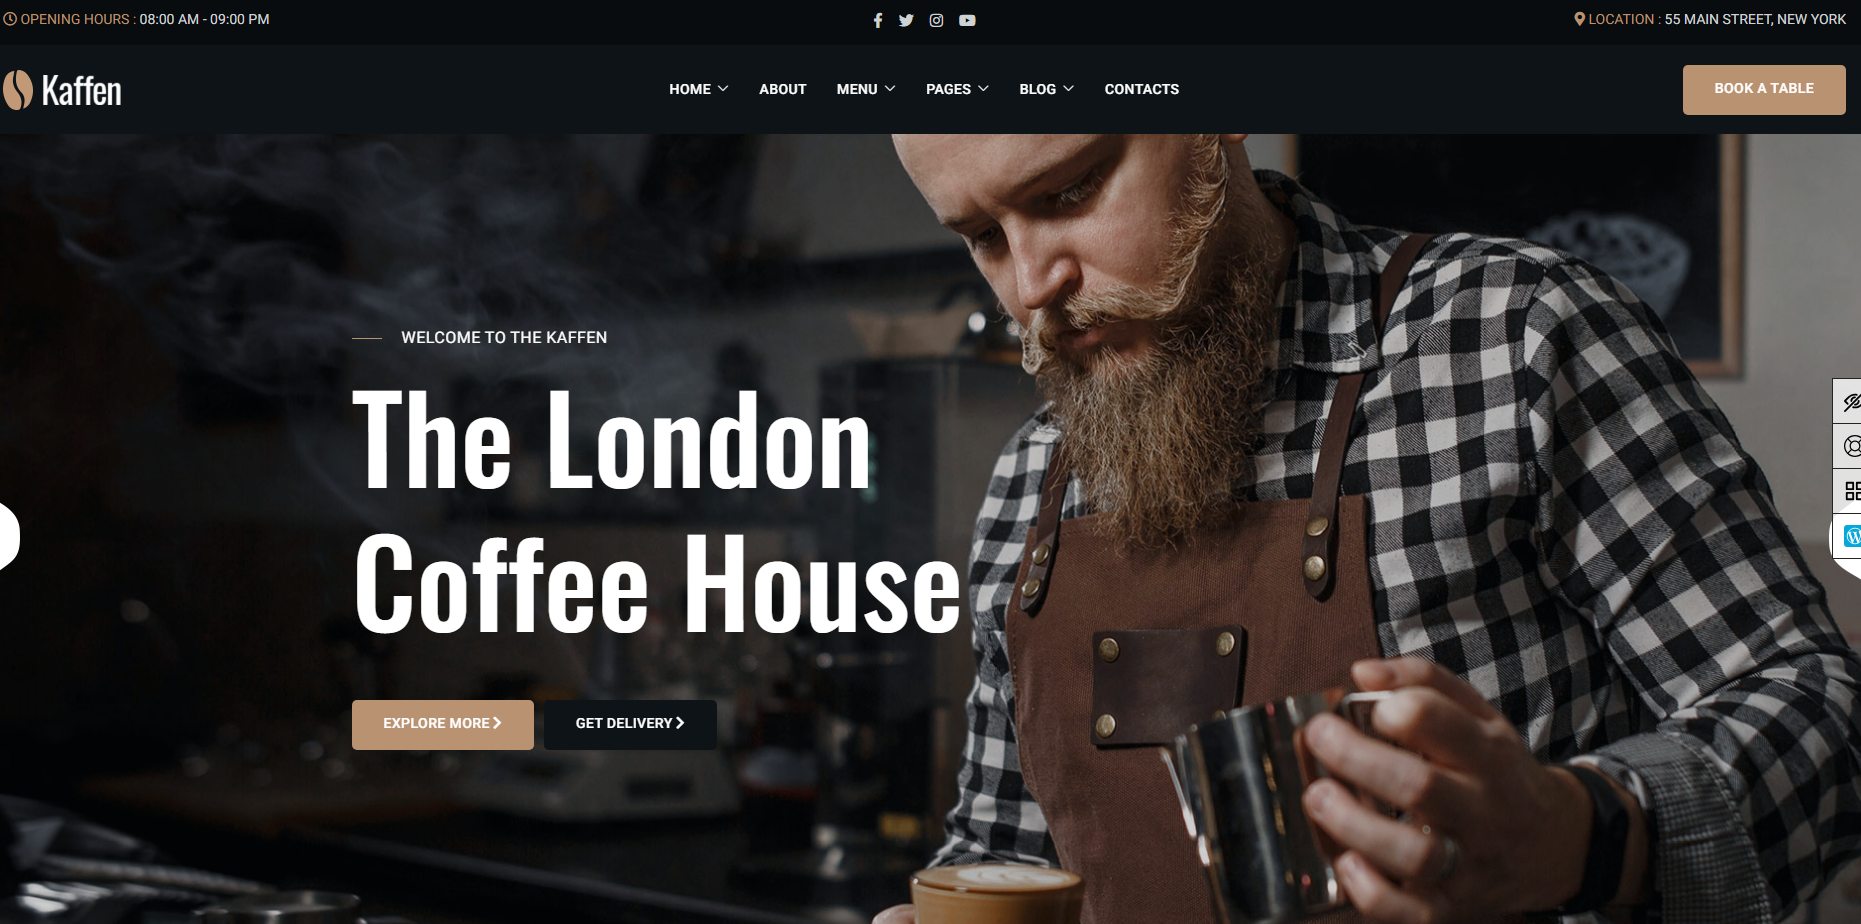menu-bar: (9, 42, 1842, 187)
